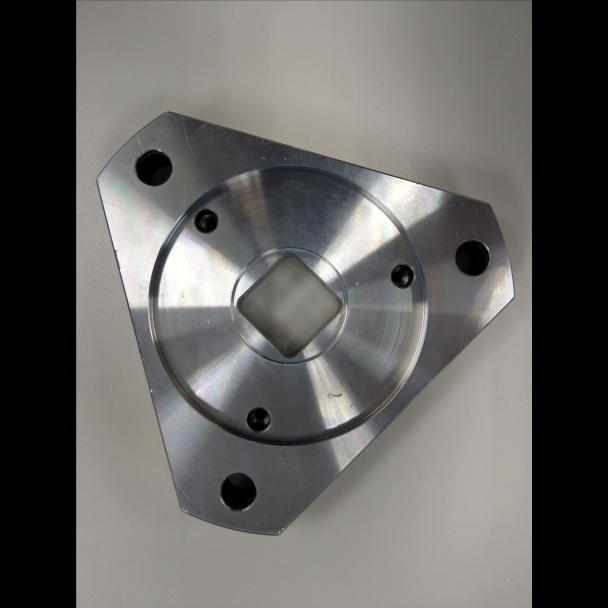hole: (216, 470, 258, 514), (132, 147, 174, 188), (451, 237, 492, 277), (243, 405, 275, 435), (191, 206, 219, 235), (388, 261, 417, 289)
